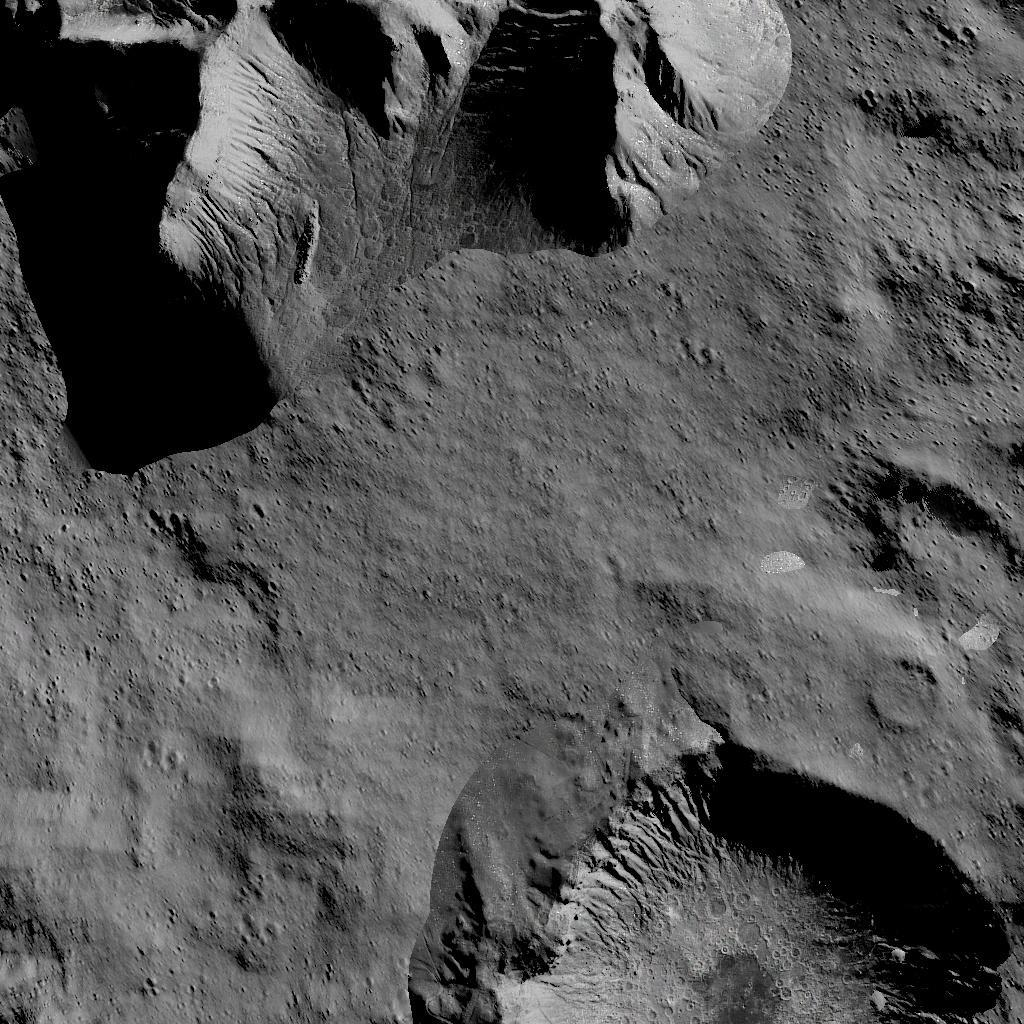Boulders: (2, 0, 794, 466)
Crater: (423, 702, 1024, 1024), (835, 422, 1024, 622), (0, 874, 62, 1024)
Plan surface: (6, 494, 398, 855), (825, 0, 1024, 386), (430, 486, 812, 676), (93, 880, 398, 1024)
